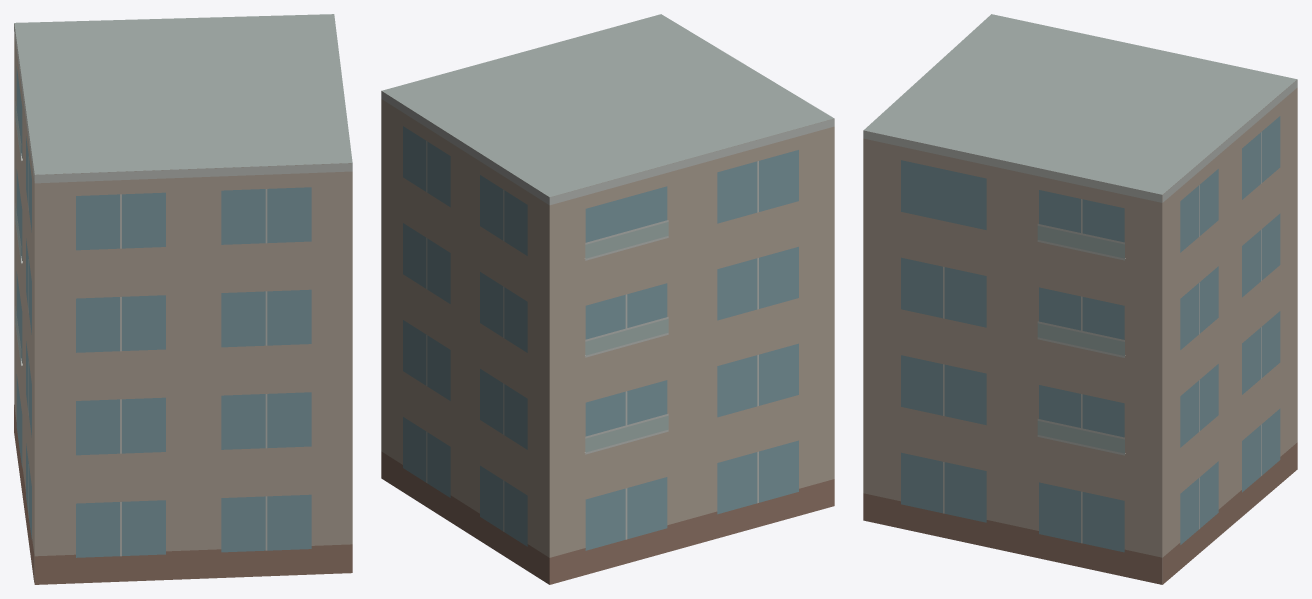
File: survey-upis-32723707.glb
The picture shows the model from 3 angles, left to right: view 1: azimuth 30°, elevation 25°; view 2: azimuth 150°, elevation 25°; view 3: azimuth 270°, elevation 25°; orthographic projection. The views are drawn at different scales.
Visible parts, largest first — view 1: survey-upis-32723707.tmp; view 2: survey-upis-32723707.tmp; view 3: survey-upis-32723707.tmp.
Part boxes in pixels (x1,y1,x2,y2): survey-upis-32723707.tmp: (14,14,352,584); survey-upis-32723707.tmp: (381,14,834,584); survey-upis-32723707.tmp: (863,14,1297,584).
Bounding box in the file's own units: 11.64 × 11.7 × 11.81.
